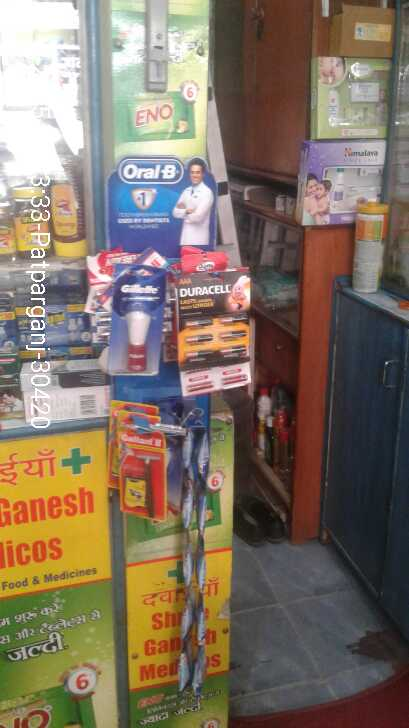gillette: (109, 272, 162, 374)
